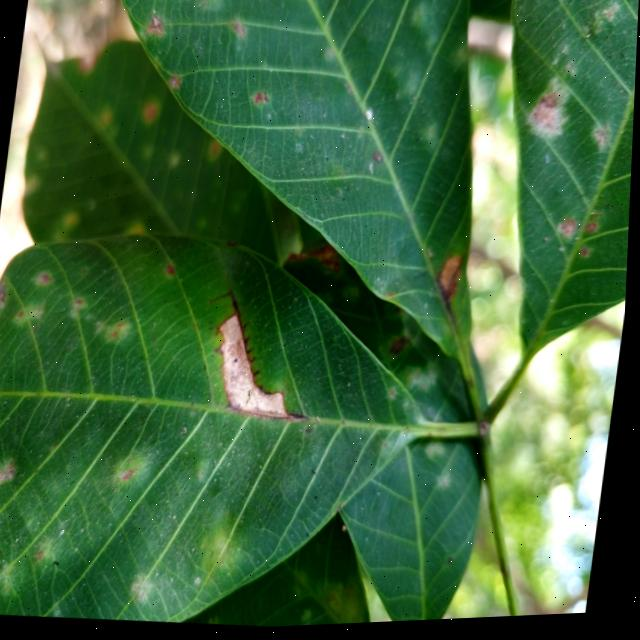Corynespora: (220, 290, 272, 384), (287, 412, 312, 424)
Leaf-Blight: (212, 315, 302, 424), (438, 258, 465, 303)
